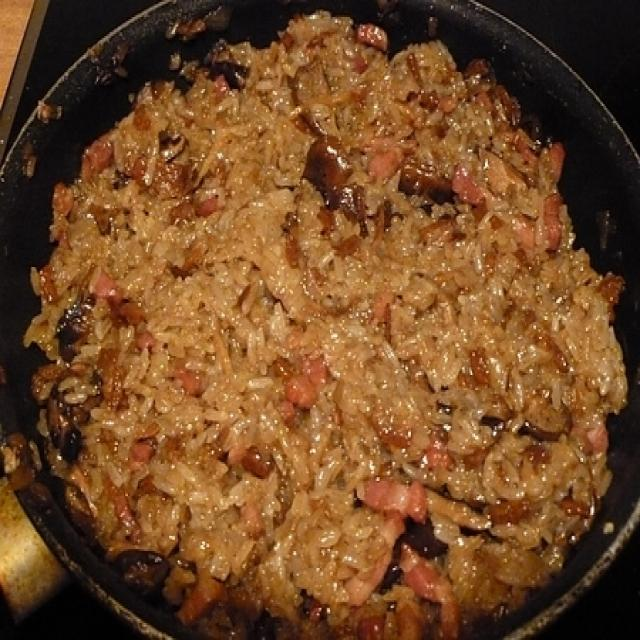米饭主食: (23, 8, 631, 623)
